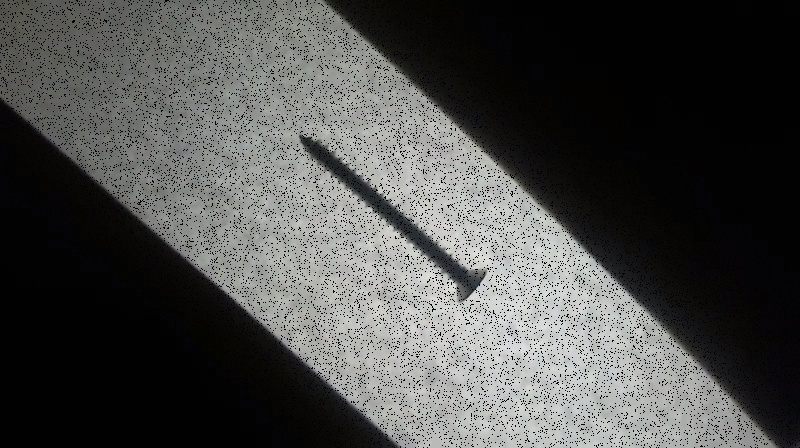S002: (296, 130, 492, 304)
